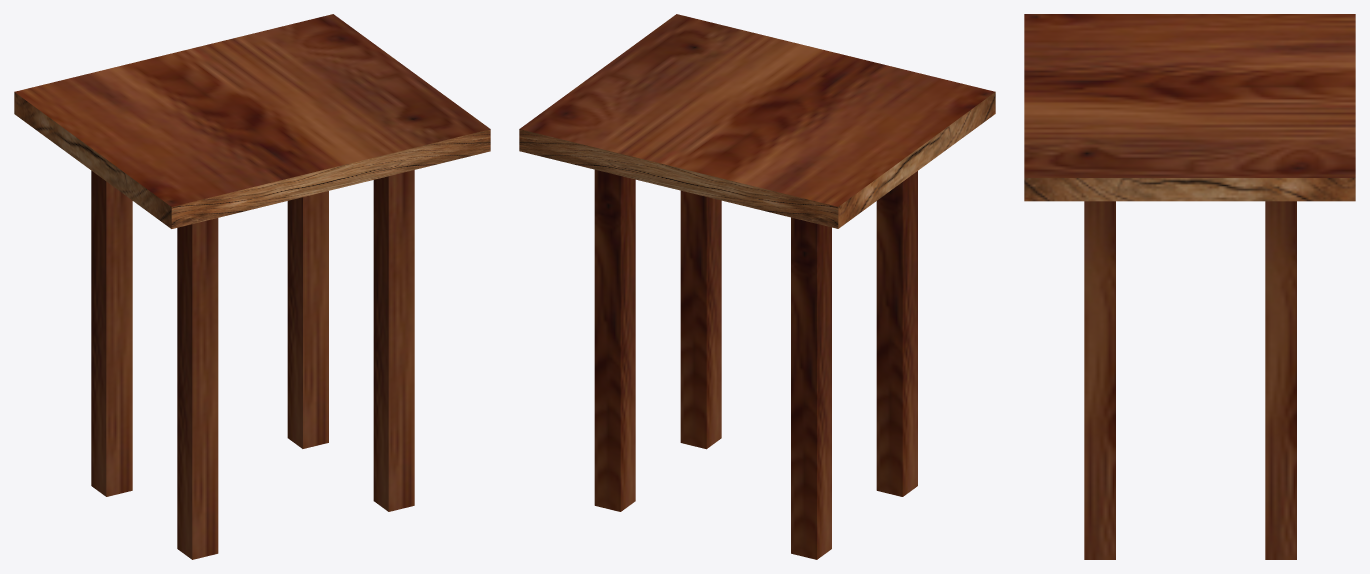
The model's file is mesita.fbx.
3 renders of one model, left to right at view 1: azimuth 30°, elevation 25°; view 2: azimuth 150°, elevation 25°; view 3: azimuth 270°, elevation 25°, orthographic. The views are drawn at different scales.
Parts seen in each view (by area): view 1: mesita; view 2: mesita; view 3: mesita.
Part boxes in pixels (x1,y1,x2,y2): mesita: (14, 14, 490, 559); mesita: (519, 14, 995, 559); mesita: (1024, 14, 1355, 559).
Size of the model in its own units: 45.03 by 52.02 by 38.45.
